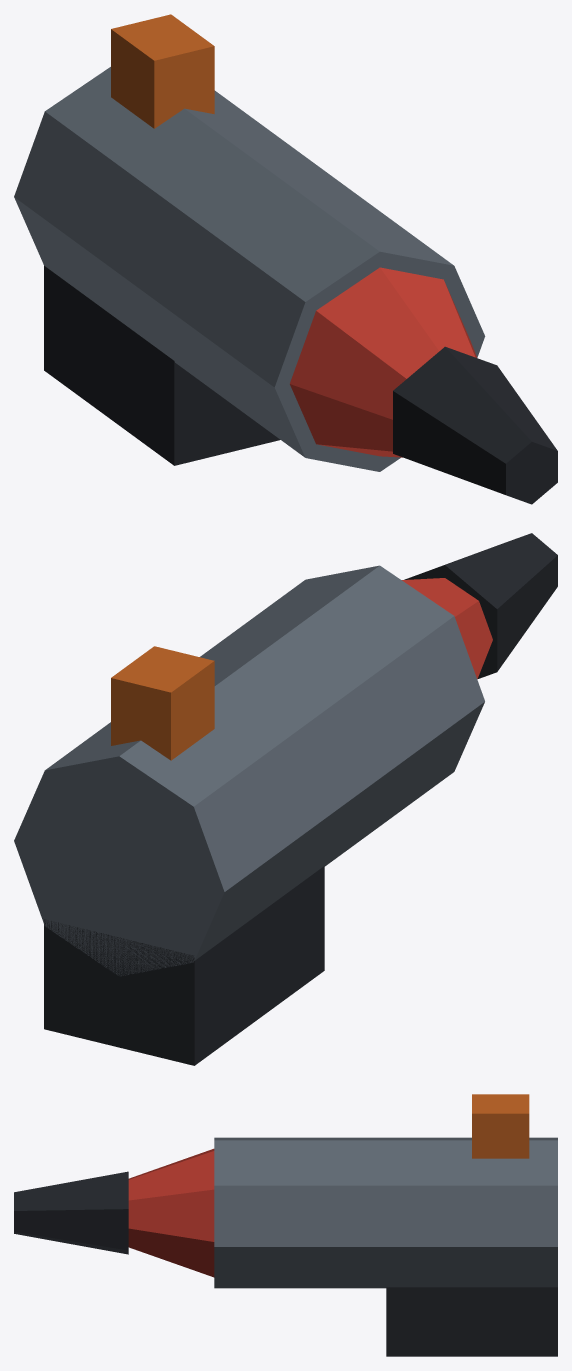
File: adrenal-battle.glb
3 renders of one model, top to bottom at view 1: azimuth 30°, elevation 25°; view 2: azimuth 150°, elevation 25°; view 3: azimuth 270°, elevation 25°, orthographic. The views are drawn at different scales.
Parts seen in each view (by area): view 1: m; view 2: m; view 3: m.
Boxes of the visible parts, x1,y1,x2,y2 form: m: [14, 14, 557, 504]; m: [14, 533, 557, 1065]; m: [14, 1094, 557, 1356].
Size of the model in its own units: 0.0265 by 0.0417 by 0.09.
